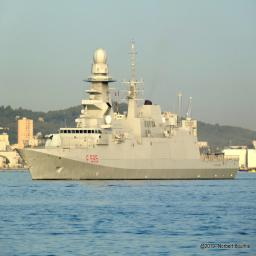Fragata: (17, 41, 244, 185)
